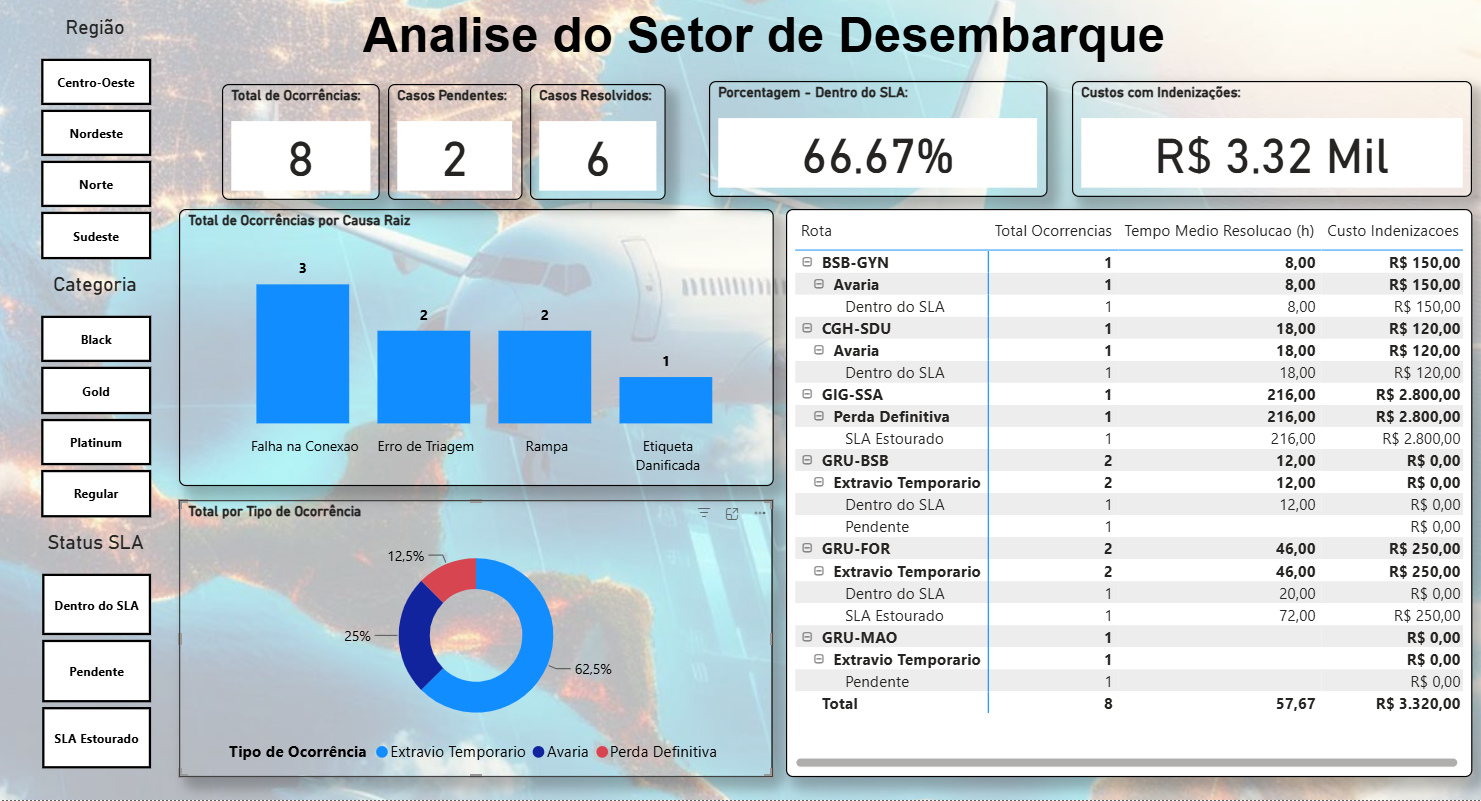

What the dashboard file says about the page in this screenshot:
{"tool":"powerbi","page":{"name":"Painel","canvas":[1280,720],"ordinal":0},"visuals":[{"type":"cardVisual","fields":{"Data":["VW_ANALISE_BAGAGENS.Total Ocorrencias"]},"box":[193.8,102.8,184.8,100.1],"z":0},{"type":"cardVisual","fields":{"Data":["VW_ANALISE_BAGAGENS.% Dentro do SLA"]},"box":[805,101.9,215.7,100.2],"z":1000},{"type":"cardVisual","fields":{"Data":["VW_ANALISE_BAGAGENS.Casos Pendentes"]},"box":[378.6,102.8,185,100.2],"z":2000},{"type":"cardVisual","fields":{"Data":["VW_ANALISE_BAGAGENS.Custo Indenizacoes"]},"box":[1020.4,101.9,244.3,100.2],"z":3000},{"type":"columnChart","fields":{"Category":["VW_ANALISE_BAGAGENS.Causa_Raiz"],"Y":["VW_ANALISE_BAGAGENS.Total Ocorrencias"]},"box":[197.4,210,451.9,239.2],"z":4000},{"type":"donutChart","fields":{"Category":["VW_ANALISE_BAGAGENS.Tipo_Ocorrencia"],"Y":["VW_ANALISE_BAGAGENS.Total Ocorrencias"]},"box":[193.8,461.5,475.9,238.9],"z":5000},{"type":"pivotTable","fields":{"Rows":["VW_ANALISE_BAGAGENS.Rota","VW_ANALISE_BAGAGENS.Tipo_Ocorrencia","VW_ANALISE_BAGAGENS.Status_SLA"],"Values":["VW_ANALISE_BAGAGENS.Total Ocorrencias","VW_ANALISE_BAGAGENS.Tempo Medio Resolucao (h)","VW_ANALISE_BAGAGENS.Custo Indenizacoes"]},"box":[680.6,225.4,591.3,447.1],"z":6000},{"type":"slicer","fields":{"Values":["VW_ANALISE_BAGAGENS.Regiao"]},"box":[10.8,101.9,142.4,201.9],"z":6001},{"type":"slicer","fields":{"Values":["VW_ANALISE_BAGAGENS.Categoria_Fidelidade"]},"box":[10.8,315.5,142.4,202.8],"z":6002},{"type":"slicer","fields":{"Values":["VW_ANALISE_BAGAGENS.Status_SLA"]},"box":[10.8,518.3,142.4,192.9],"z":6003},{"type":"cardVisual","fields":{"Data":["VW_ANALISE_BAGAGENS.Casos Resolvidos"]},"box":[563.4,101.9,229,100.1],"z":6004}]}

Visuals, with their boxes on the page's 1280x720 design canvas (x1, y1, x2, y2). These are canvas units, not pixel positions in the 1481x801 screenshot, which may show the page scaled, cropped or inside an application window:
cardVisual - VW_ANALISE_BAGAGENS.Total Ocorrencias: bbox(194, 103, 379, 203)
cardVisual - VW_ANALISE_BAGAGENS.% Dentro do SLA: bbox(805, 102, 1021, 202)
cardVisual - VW_ANALISE_BAGAGENS.Casos Pendentes: bbox(379, 103, 564, 203)
cardVisual - VW_ANALISE_BAGAGENS.Custo Indenizacoes: bbox(1020, 102, 1265, 202)
columnChart - VW_ANALISE_BAGAGENS.Causa_Raiz x VW_ANALISE_BAGAGENS.Total Ocorrencias: bbox(197, 210, 649, 449)
donutChart - VW_ANALISE_BAGAGENS.Tipo_Ocorrencia x VW_ANALISE_BAGAGENS.Total Ocorrencias: bbox(194, 462, 670, 700)
pivotTable - VW_ANALISE_BAGAGENS.Rota x VW_ANALISE_BAGAGENS.Tipo_Ocorrencia: bbox(681, 225, 1272, 672)
slicer - VW_ANALISE_BAGAGENS.Regiao: bbox(11, 102, 153, 304)
slicer - VW_ANALISE_BAGAGENS.Categoria_Fidelidade: bbox(11, 316, 153, 518)
slicer - VW_ANALISE_BAGAGENS.Status_SLA: bbox(11, 518, 153, 711)
cardVisual - VW_ANALISE_BAGAGENS.Casos Resolvidos: bbox(563, 102, 792, 202)
